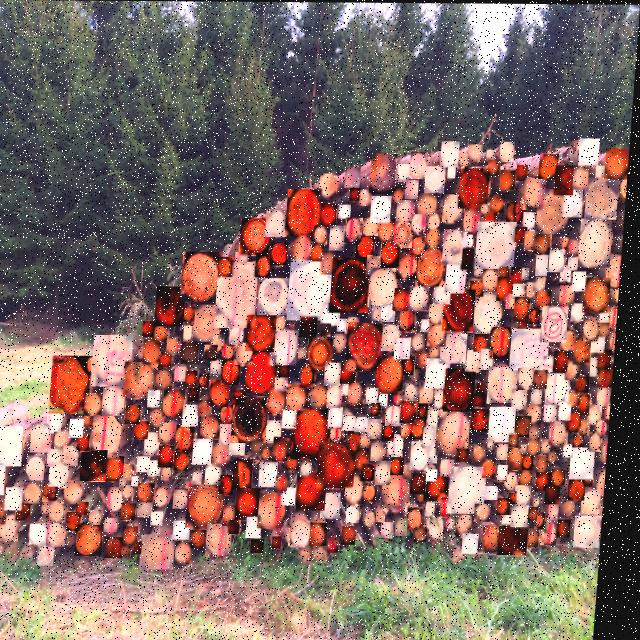wood-log: (221, 262, 262, 328), (293, 260, 336, 319), (335, 257, 375, 312), (58, 356, 95, 414), (299, 405, 337, 459), (98, 335, 137, 385), (186, 251, 225, 301), (480, 222, 518, 268), (456, 466, 493, 513), (352, 322, 388, 370), (194, 483, 232, 527), (290, 189, 326, 235), (325, 442, 362, 486), (239, 397, 274, 443), (516, 328, 554, 369), (583, 219, 614, 267), (444, 411, 477, 455), (540, 188, 571, 233), (589, 177, 621, 218), (448, 289, 479, 330), (451, 368, 480, 411), (252, 352, 282, 393), (99, 415, 128, 457), (462, 168, 492, 208), (160, 286, 189, 326), (373, 267, 402, 307), (149, 534, 182, 569), (304, 472, 334, 510), (262, 278, 293, 314), (479, 292, 506, 333), (420, 248, 449, 286), (130, 363, 162, 397), (244, 218, 274, 254), (389, 474, 419, 510), (252, 315, 281, 351), (494, 366, 523, 402), (2, 427, 29, 465), (382, 356, 409, 394), (373, 154, 398, 192), (546, 305, 572, 341), (277, 330, 303, 365), (266, 493, 292, 528), (588, 277, 614, 312), (200, 305, 225, 341), (84, 523, 111, 556), (495, 407, 522, 440), (507, 525, 537, 554), (582, 515, 608, 546), (447, 230, 470, 264), (446, 333, 472, 363), (313, 339, 338, 370), (244, 488, 267, 520), (432, 358, 456, 388), (578, 447, 601, 478), (88, 453, 114, 480), (215, 525, 239, 554), (552, 373, 575, 403), (608, 148, 631, 178), (496, 326, 518, 357), (109, 386, 131, 416), (525, 178, 547, 207), (241, 459, 260, 490), (450, 263, 469, 293), (295, 235, 316, 262), (581, 138, 602, 165), (38, 424, 58, 452), (353, 474, 372, 503), (417, 441, 436, 470), (558, 165, 577, 194), (7, 515, 28, 541), (293, 384, 314, 410), (434, 474, 455, 500), (270, 210, 290, 237), (170, 390, 190, 416), (401, 252, 421, 278), (428, 166, 448, 192), (216, 380, 236, 405), (299, 521, 319, 546), (397, 221, 417, 246), (200, 438, 219, 464), (447, 194, 466, 220), (568, 188, 585, 216), (266, 462, 285, 487), (385, 241, 404, 266), (414, 286, 433, 311), (375, 196, 394, 221), (542, 153, 561, 178), (228, 359, 246, 385), (329, 492, 347, 518), (491, 525, 509, 551), (183, 424, 200, 451), (113, 456, 131, 481), (148, 339, 166, 364), (589, 489, 607, 514), (388, 324, 405, 350), (444, 141, 461, 167), (207, 415, 226, 438), (433, 323, 452, 346), (57, 463, 75, 487), (34, 456, 52, 480), (220, 442, 238, 466), (556, 420, 574, 444), (115, 487, 132, 512), (322, 173, 339, 198), (413, 153, 429, 179), (360, 236, 378, 259), (478, 408, 496, 431), (422, 193, 440, 216), (0, 460, 12, 494), (349, 217, 365, 242), (354, 382, 370, 407), (55, 524, 73, 546), (380, 219, 398, 241), (13, 487, 30, 510), (73, 481, 90, 504), (273, 391, 290, 414), (327, 302, 344, 325), (330, 362, 347, 385), (519, 503, 536, 526), (581, 337, 596, 363), (326, 250, 342, 274), (317, 385, 333, 409), (501, 276, 517, 300), (549, 520, 565, 544), (274, 243, 292, 264), (575, 479, 593, 500), (437, 516, 452, 541), (151, 432, 168, 454), (382, 461, 398, 484), (468, 208, 484, 231), (68, 446, 86, 466), (305, 317, 323, 337), (392, 405, 410, 425), (114, 537, 131, 558), (184, 542, 201, 563), (271, 421, 288, 442), (241, 343, 258, 364), (187, 342, 204, 363), (400, 199, 417, 220), (521, 415, 538, 436), (46, 544, 62, 566), (92, 393, 108, 415), (280, 438, 296, 460), (394, 434, 410, 456), (510, 201, 526, 223), (334, 225, 348, 250), (319, 522, 334, 545), (589, 317, 604, 340), (514, 449, 531, 469), (165, 446, 181, 467), (259, 255, 275, 276), (417, 417, 433, 438), (433, 407, 449, 428), (400, 338, 416, 359), (439, 283, 455, 304), (520, 296, 534, 320), (58, 500, 73, 522), (227, 423, 242, 445), (399, 288, 414, 310), (38, 524, 55, 543), (565, 330, 582, 349), (0, 501, 14, 524), (488, 268, 502, 291), (554, 248, 568, 271), (166, 422, 182, 442), (464, 515, 480, 535), (254, 517, 269, 538), (333, 385, 348, 406), (415, 508, 430, 529), (418, 473, 433, 494), (407, 401, 422, 422), (466, 248, 481, 269), (573, 411, 588, 432), (54, 412, 68, 434), (325, 203, 339, 225), (362, 448, 376, 470), (162, 370, 178, 389), (421, 350, 437, 369), (523, 368, 539, 387), (33, 483, 48, 503), (213, 464, 228, 484), (190, 405, 205, 425), (347, 363, 362, 383), (471, 533, 486, 553), (472, 350, 487, 370), (533, 403, 548, 423), (552, 483, 567, 503), (426, 382, 440, 403), (405, 309, 419, 330), (576, 167, 590, 188), (181, 521, 198, 538), (146, 483, 161, 502), (518, 389, 533, 408), (524, 485, 539, 504), (132, 526, 146, 546), (162, 487, 176, 507), (231, 505, 245, 525), (223, 256, 237, 276), (335, 408, 349, 428), (349, 167, 363, 187), (594, 404, 608, 424), (367, 217, 382, 235), (483, 503, 498, 521), (603, 369, 618, 387), (133, 405, 147, 424), (181, 451, 195, 470), (317, 225, 331, 244), (415, 214, 429, 233), (512, 471, 526, 490), (503, 170, 517, 189), (540, 233, 554, 252), (560, 351, 574, 370), (564, 285, 578, 304), (430, 428, 443, 448), (236, 438, 252, 454), (320, 545, 336, 561), (76, 419, 90, 437), (141, 421, 155, 439), (227, 405, 241, 423), (350, 526, 364, 544), (416, 333, 430, 351), (487, 348, 499, 369), (414, 236, 428, 254), (503, 142, 517, 160), (544, 472, 558, 490), (584, 394, 596, 415), (75, 512, 88, 531), (228, 475, 241, 494), (289, 409, 302, 428), (375, 419, 388, 438), (408, 179, 421, 198), (515, 266, 528, 285), (542, 290, 555, 309), (572, 360, 585, 379), (577, 272, 590, 291), (50, 484, 65, 500), (145, 502, 161, 517), (234, 328, 249, 344), (308, 367, 320, 387), (441, 389, 453, 409), (604, 349, 616, 369), (61, 432, 75, 449), (181, 490, 195, 507), (157, 409, 170, 427), (290, 487, 303, 505), (307, 547, 320, 565), (371, 256, 384, 274), (398, 456, 411, 474), (403, 518, 416, 536), (479, 333, 492, 351), (603, 387, 616, 405), (540, 369, 553, 387), (527, 211, 539, 230), (528, 230, 540, 249), (540, 255, 552, 274), (566, 518, 578, 537), (24, 504, 38, 520), (204, 400, 218, 416), (434, 304, 448, 320), (430, 229, 444, 245), (361, 189, 375, 205), (55, 449, 68, 466), (201, 530, 214, 547), (293, 453, 306, 470), (448, 459, 461, 476), (470, 144, 483, 161), (488, 211, 501, 228), (494, 194, 507, 211), (570, 500, 583, 517), (573, 390, 586, 407), (576, 303, 589, 320), (355, 431, 367, 449), (389, 422, 401, 440), (596, 357, 608, 375), (597, 334, 609, 352), (144, 456, 157, 472), (190, 370, 203, 386), (315, 245, 328, 261), (386, 304, 399, 320), (371, 484, 384, 500), (369, 464, 382, 480), (475, 280, 488, 296), (283, 475, 295, 492), (339, 333, 351, 350), (355, 505, 367, 522), (510, 514, 522, 531), (490, 460, 502, 477), (585, 418, 597, 435), (379, 442, 390, 460), (412, 383, 423, 401), (409, 356, 420, 374), (597, 432, 608, 450), (361, 417, 375, 431), (130, 504, 143, 519), (210, 345, 223, 360), (371, 512, 384, 527), (349, 415, 362, 430), (490, 159, 503, 174), (148, 321, 160, 337), (423, 526, 435, 542), (400, 164, 412, 180), (543, 455, 555, 471), (603, 419, 615, 435), (582, 376, 594, 392), (549, 355, 561, 371), (112, 518, 125, 532), (155, 461, 168, 475), (259, 539, 272, 553), (351, 317, 364, 331), (526, 470, 539, 484), (84, 435, 96, 450), (154, 391, 166, 406), (258, 438, 270, 453), (281, 376, 293, 391), (160, 326, 172, 341), (372, 388, 384, 403), (337, 428, 349, 443), (505, 498, 517, 513), (517, 283, 529, 298), (560, 469, 572, 484), (565, 404, 577, 419), (228, 343, 239, 359), (481, 445, 492, 461), (519, 226, 530, 242), (531, 282, 542, 298), (504, 443, 515, 459), (479, 393, 492, 406), (97, 511, 109, 525), (342, 204, 354, 218), (389, 522, 401, 536), (493, 485, 505, 499), (217, 336, 228, 351), (181, 366, 192, 381), (377, 307, 388, 322), (461, 152, 472, 167), (519, 164, 530, 179), (537, 388, 548, 403), (535, 439, 546, 454), (536, 423, 547, 438), (173, 338, 183, 354), (425, 403, 435, 419), (464, 448, 476, 461), (579, 434, 591, 447), (130, 485, 141, 499), (239, 390, 250, 404), (166, 353, 177, 367), (529, 455, 540, 469), (551, 405, 562, 419), (564, 265, 575, 279), (189, 306, 199, 321), (337, 537, 347, 552), (367, 432, 377, 447), (396, 187, 406, 202), (511, 293, 521, 308), (535, 308, 545, 323), (284, 365, 296, 377), (410, 463, 419, 479), (449, 499, 458, 515), (434, 346, 446, 358), (240, 252, 251, 265), (308, 462, 319, 475), (539, 277, 550, 290), (205, 373, 215, 387), (505, 465, 515, 479), (434, 501, 443, 516), (408, 423, 417, 438), (436, 448, 445, 463), (537, 530, 546, 545), (543, 512, 552, 527), (557, 504, 566, 519), (605, 307, 614, 322), (433, 469, 444, 481), (86, 502, 96, 515), (160, 512, 170, 525), (269, 447, 279, 460), (353, 187, 363, 200), (536, 507, 546, 520), (570, 444, 580, 457), (548, 439, 558, 452), (238, 520, 247, 534), (189, 326, 198, 340), (573, 240, 582, 254), (168, 468, 180, 478), (217, 360, 227, 372), (572, 257, 582, 269), (195, 388, 204, 401), (378, 402, 387, 415), (400, 391, 409, 404), (605, 322, 614, 335), (348, 383, 357, 395), (142, 541, 150, 554), (132, 465, 140, 478), (326, 324, 336, 334), (516, 493, 526, 503), (303, 347, 312, 358), (385, 394, 394, 405), (478, 265, 487, 276), (467, 234, 476, 245), (516, 435, 525, 446), (598, 165, 607, 176), (343, 319, 351, 331), (426, 491, 434, 503), (426, 319, 434, 331), (450, 166, 458, 178), (556, 450, 564, 462), (91, 416, 99, 427), (131, 545, 139, 556), (201, 473, 209, 484), (484, 203, 492, 214), (505, 267, 513, 278), (524, 320, 531, 332), (593, 474, 600, 486), (281, 537, 289, 547), (483, 383, 491, 392), (494, 439, 501, 448), (527, 443, 534, 452), (140, 476, 146, 486), (385, 509, 391, 519), (490, 149, 496, 159), (526, 268, 532, 278), (567, 237, 573, 247), (127, 479, 134, 487)
